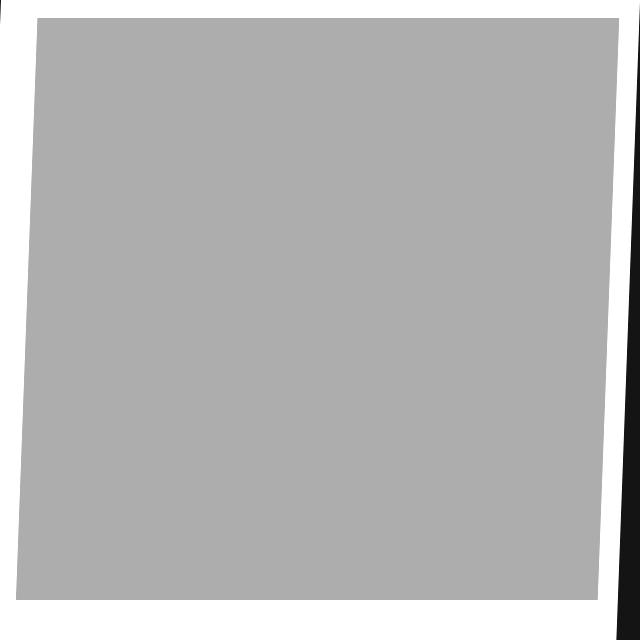qr_code: (20, 18, 618, 600)
